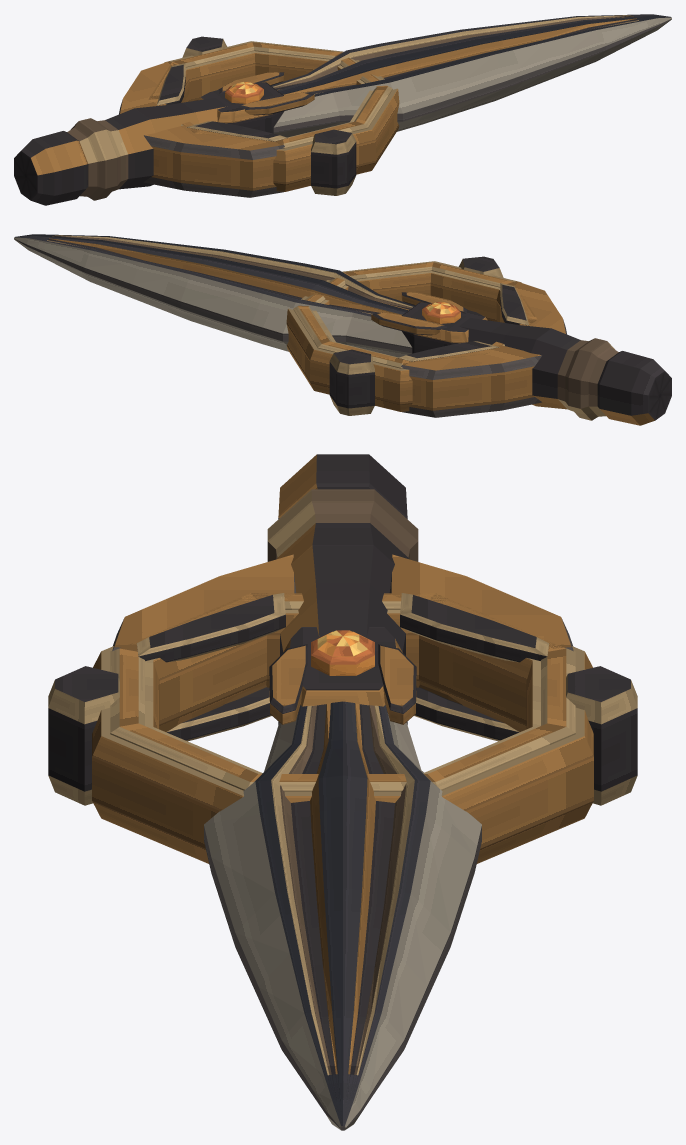
Rendered from bench_jindan_jinwu_spear_4.obj.
The picture shows the model from 3 angles, top to bottom: view 1: azimuth 30°, elevation 25°; view 2: azimuth 150°, elevation 25°; view 3: azimuth 270°, elevation 25°; orthographic projection. The views are drawn at different scales.
Parts seen in each view (by area): view 1: geometry; view 2: geometry; view 3: geometry.
Part boxes in pixels (x1,y1,x2,y2): geometry: (14,14,671,205); geometry: (14,234,671,425); geometry: (48,454,637,1130).
Size of the model in its own units: 0.75 by 0.0846 by 0.2967.
